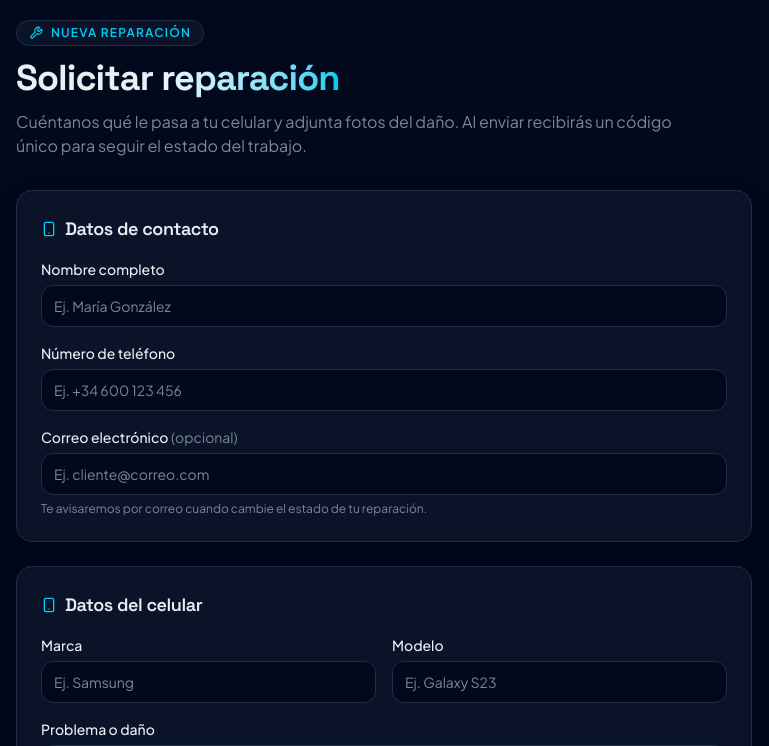
Test case: RequestRepairPage › submits valid data and reveals the generated repair code
This screenshot has width=769, height=746.
Type "María González" into the field with test id "request.fullName.input" at (384, 306), box [41,285,727,327]
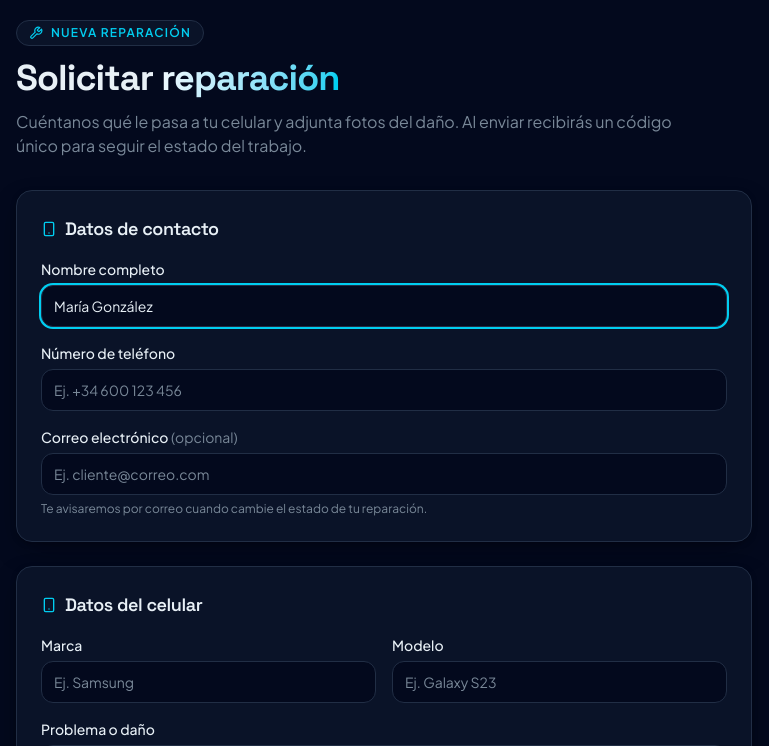
Type "+34600123456" into the field with test id "request.phone.input" at (384, 390), box [41,369,727,411]
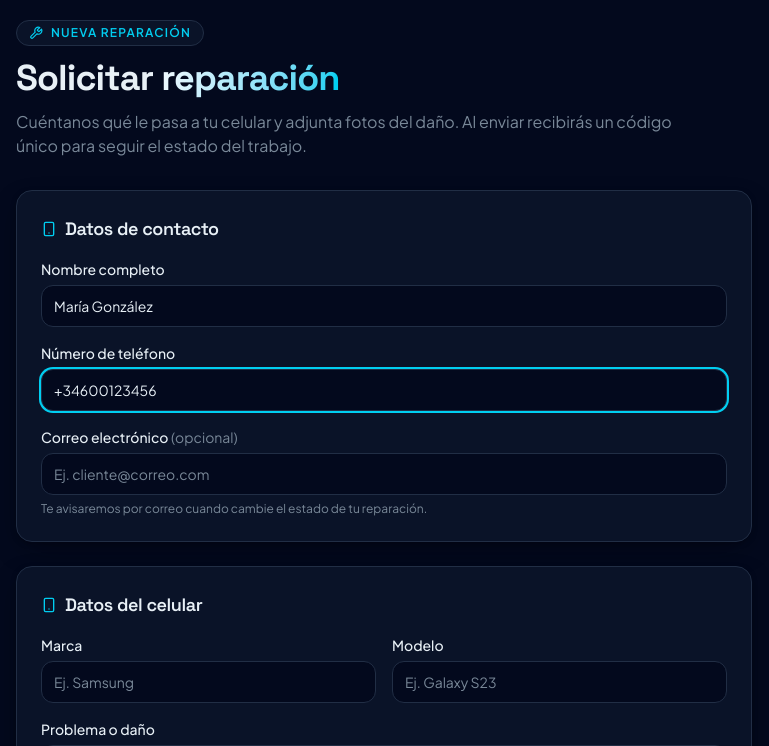
Type "Samsung" into the field with test id "request.brand.input" at (208, 682), box [41,661,376,703]
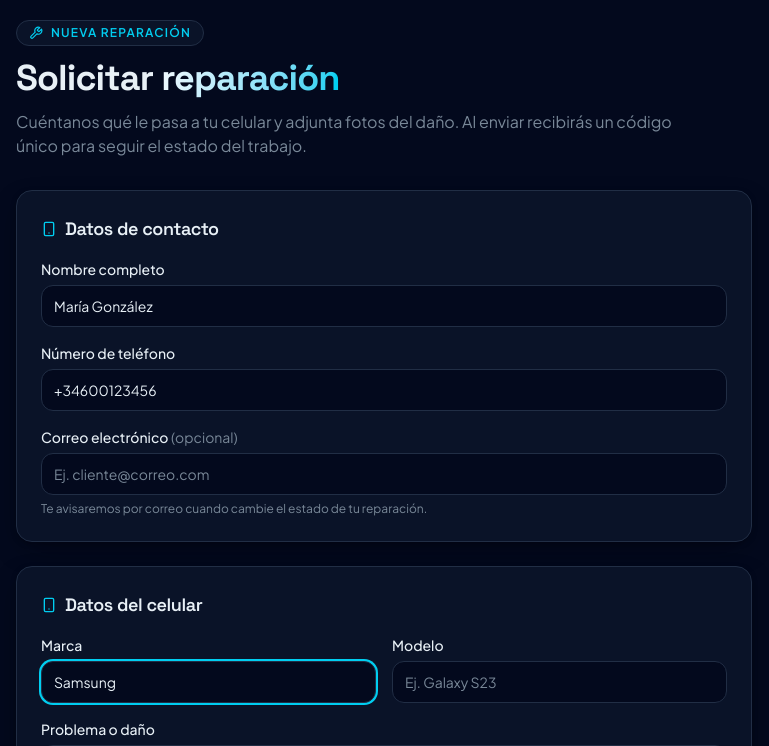
Type "Galaxy S23" into the field with test id "request.model.input" at (560, 682), box [392,661,727,703]
(page scrolled)
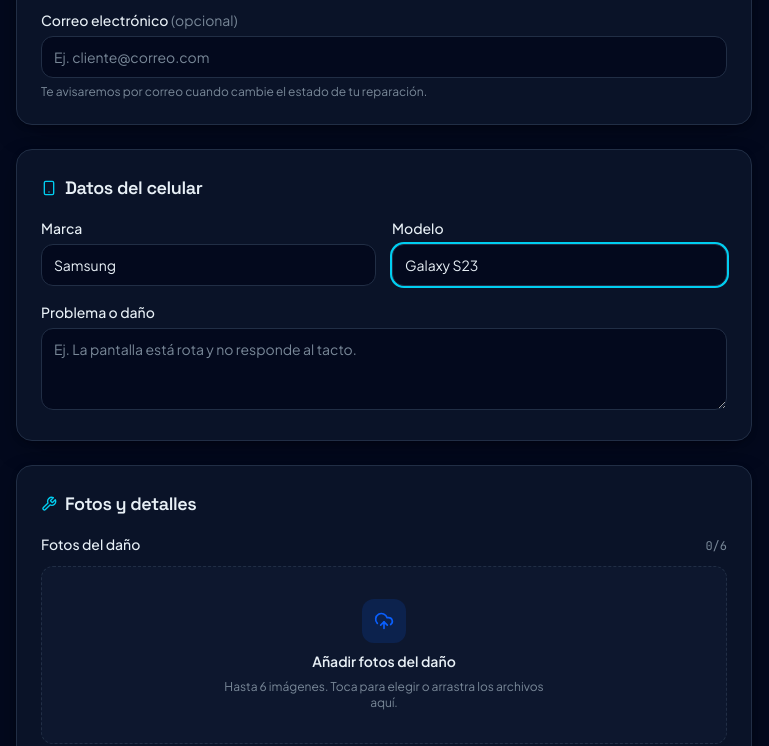
Type "Pantalla rota" into the text box with test id "request.reportedIssue.textarea" at (384, 369), box [41,328,727,410]
(page scrolled)
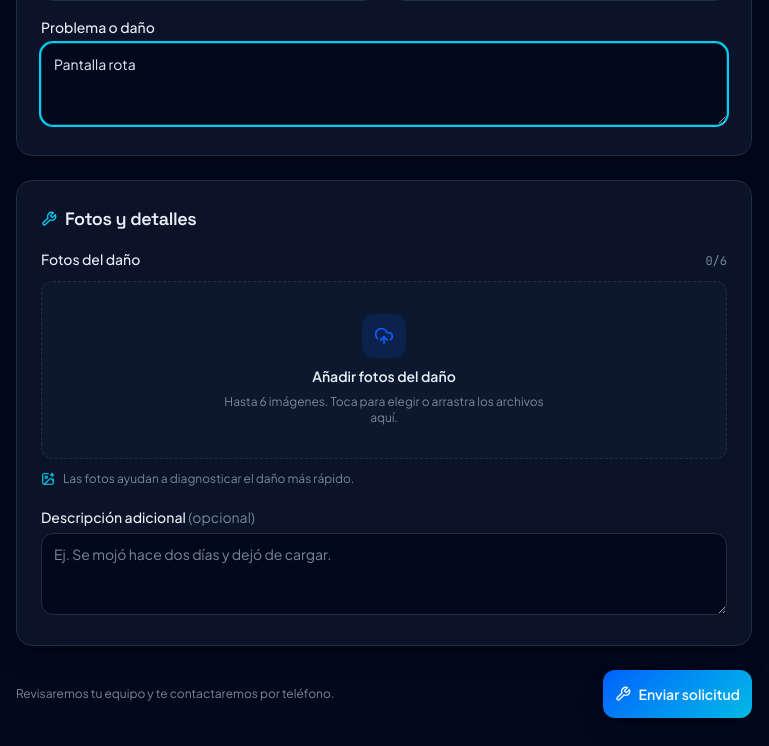
Click the button with test id "request.submit_button" at (677, 694), box [602,670,752,718]
(page scrolled)
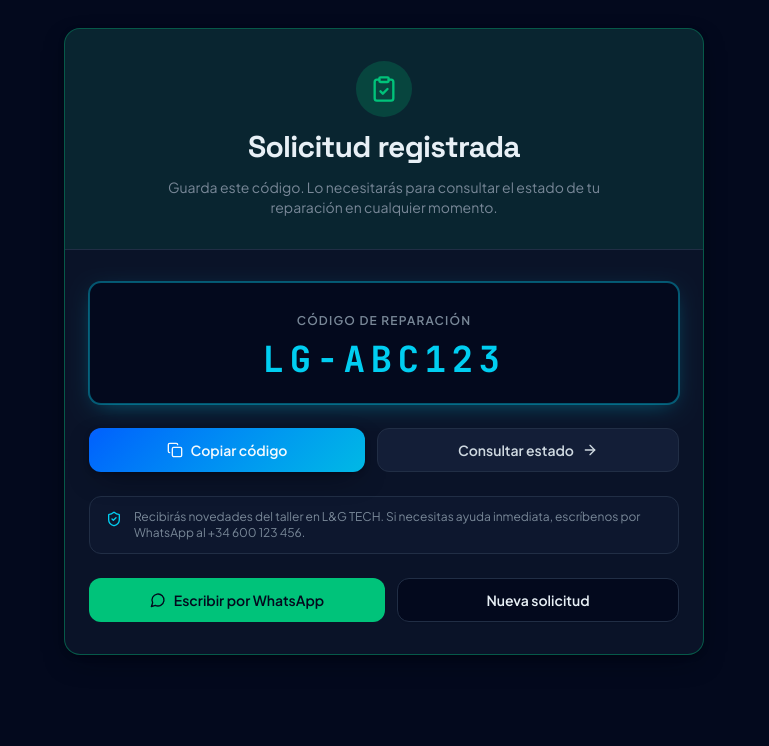
Expected: the text with test id "request.code" reads "LG-ABC123", [262,335,506,383]
Expected: the element with test id "request.success_state" is shown
